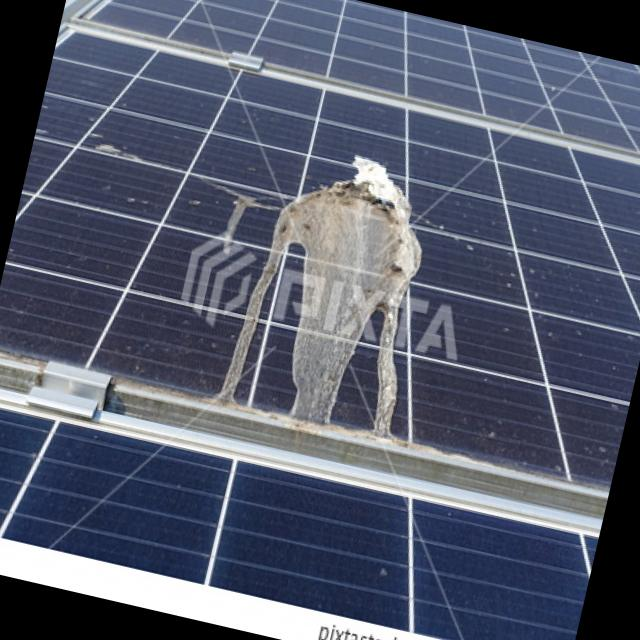faulty: (0, 13, 640, 620), (202, 110, 460, 506)
